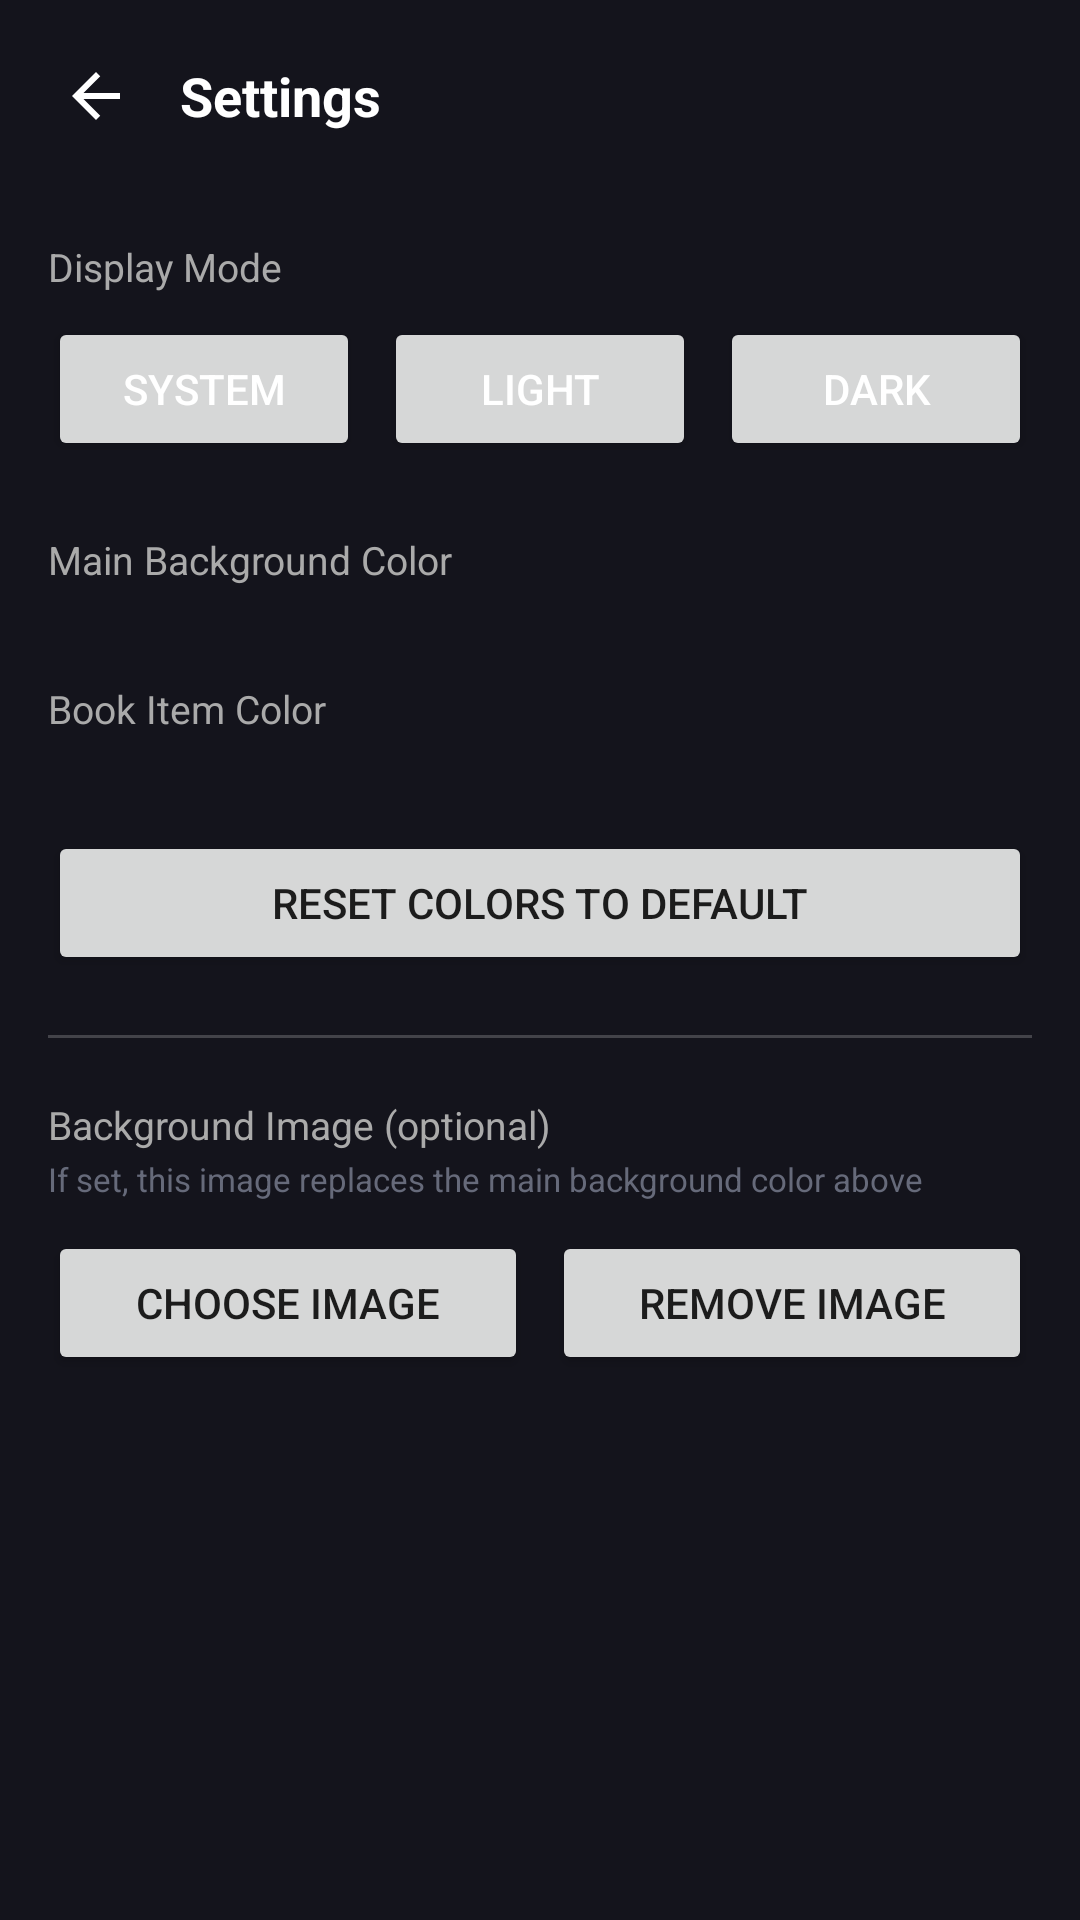

Where icons sit on this 1080x1920 app screen, as {"x1": x1, "y1": y1, "x2": x2, "y2": y2}:
Back: {"x1": 72, "y1": 72, "x2": 120, "y2": 120}
